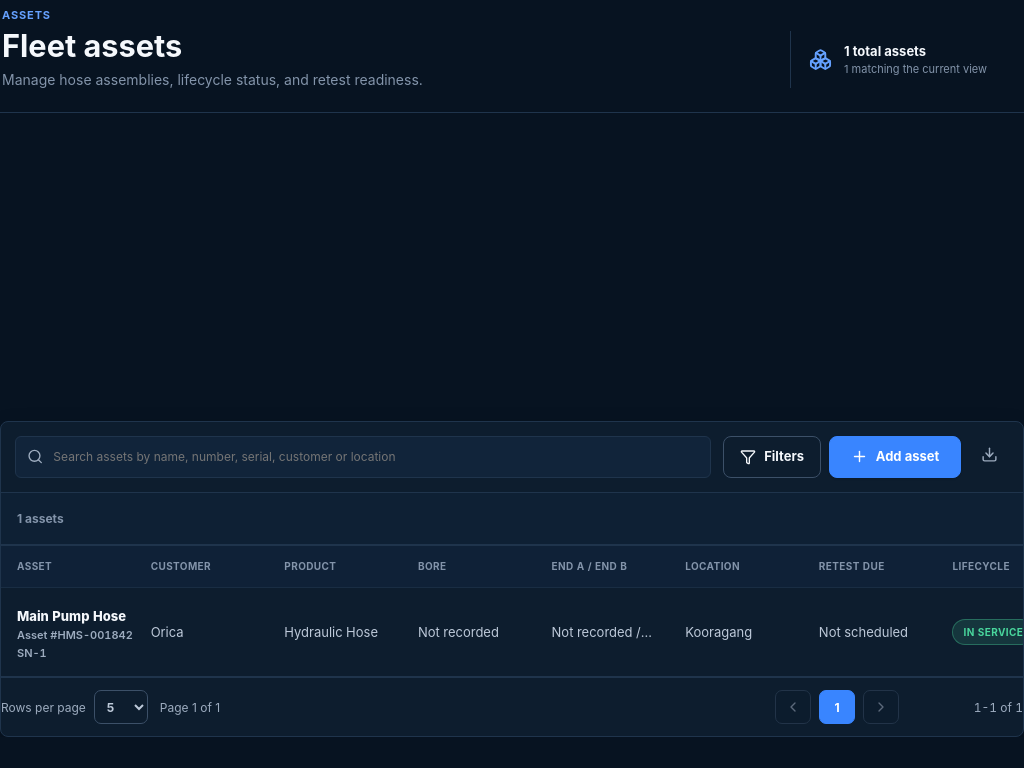
Test: Asset form › shows a server rejection, keeps the drawer open with every value, and explains it in plain words
The image size is (1024, 768).
expect the text "Main Pump Hose" is shown: met, box [17,608,126,624]
Click the button "Add asset" at (895, 456), box [829,436,961,478]
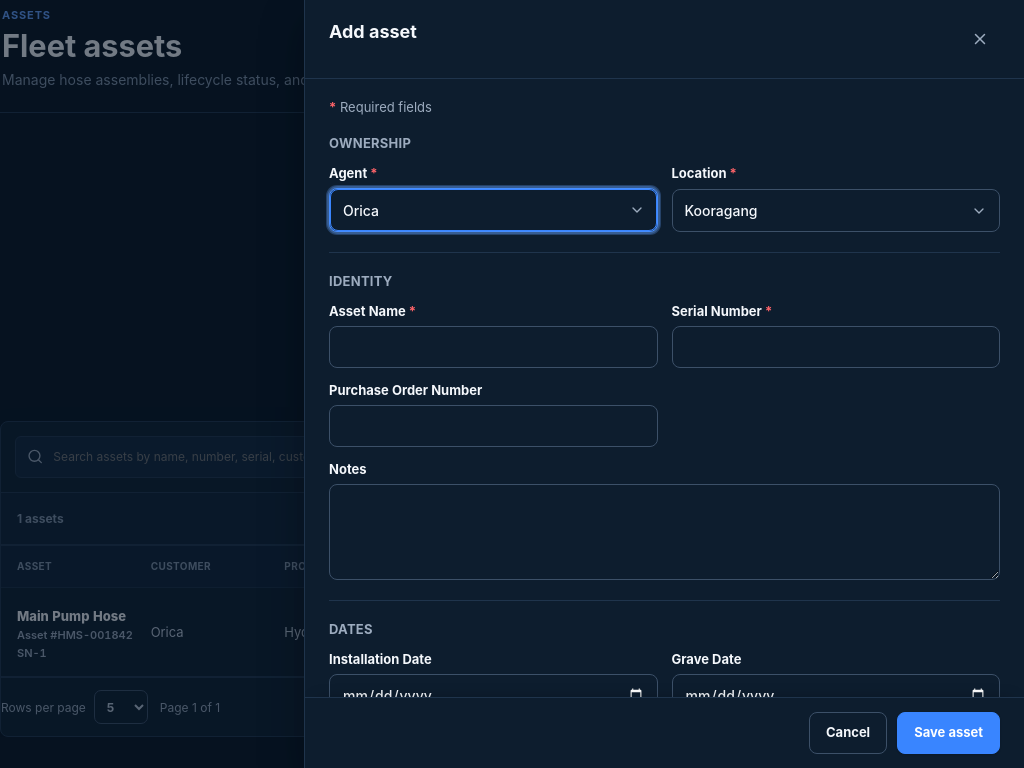
expect the heading "Add asset" is shown: met, box [329,20,417,43]
Type "Boom Hose" into the field labelled "Asset Name" at (493, 347), box [329,326,658,368]
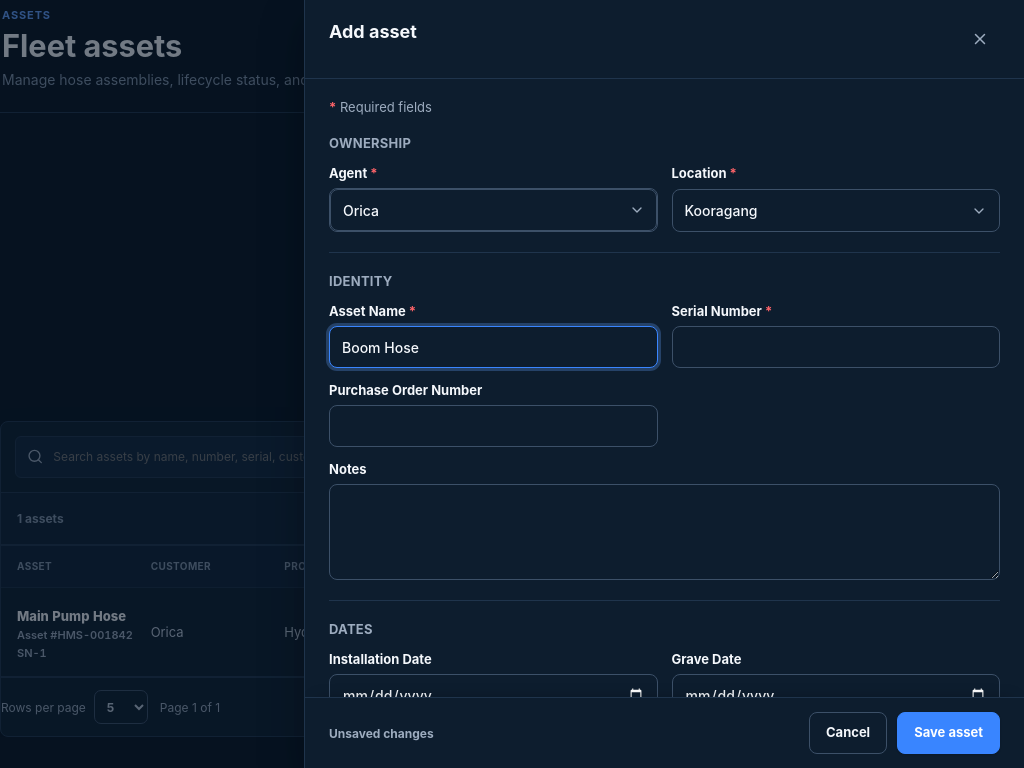
Type "SN-77" into the field labelled "Serial Number" at (836, 347), box [672,326,1000,368]
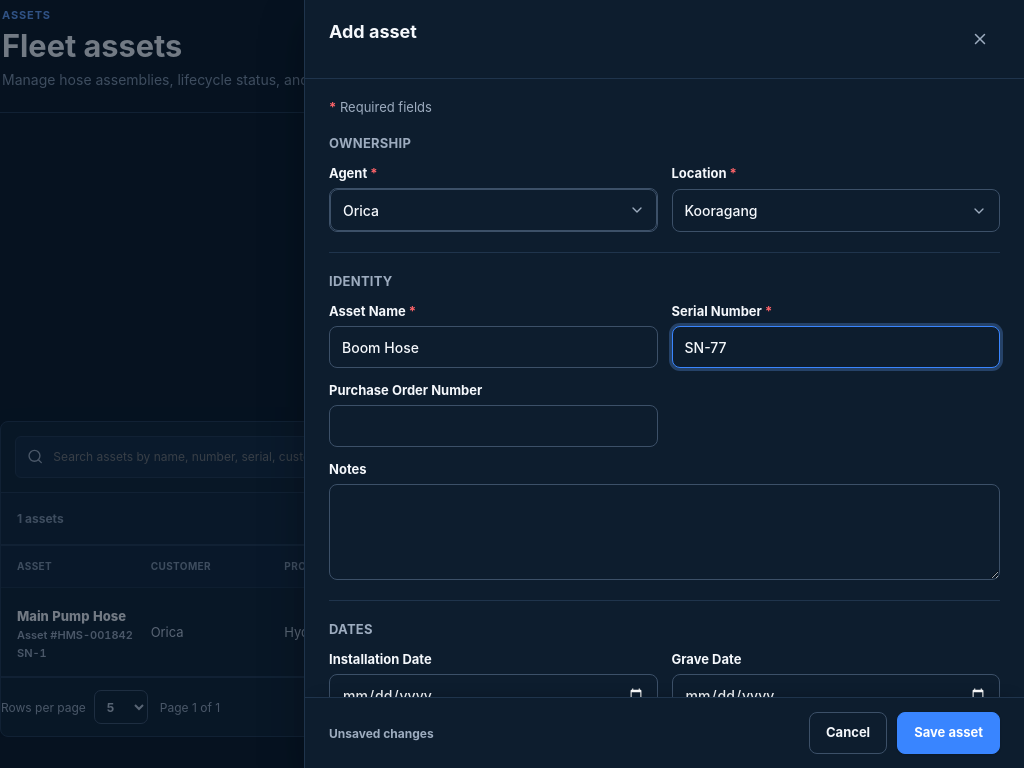
Click the button "Save asset" at (949, 733), box [897,712,1000,754]
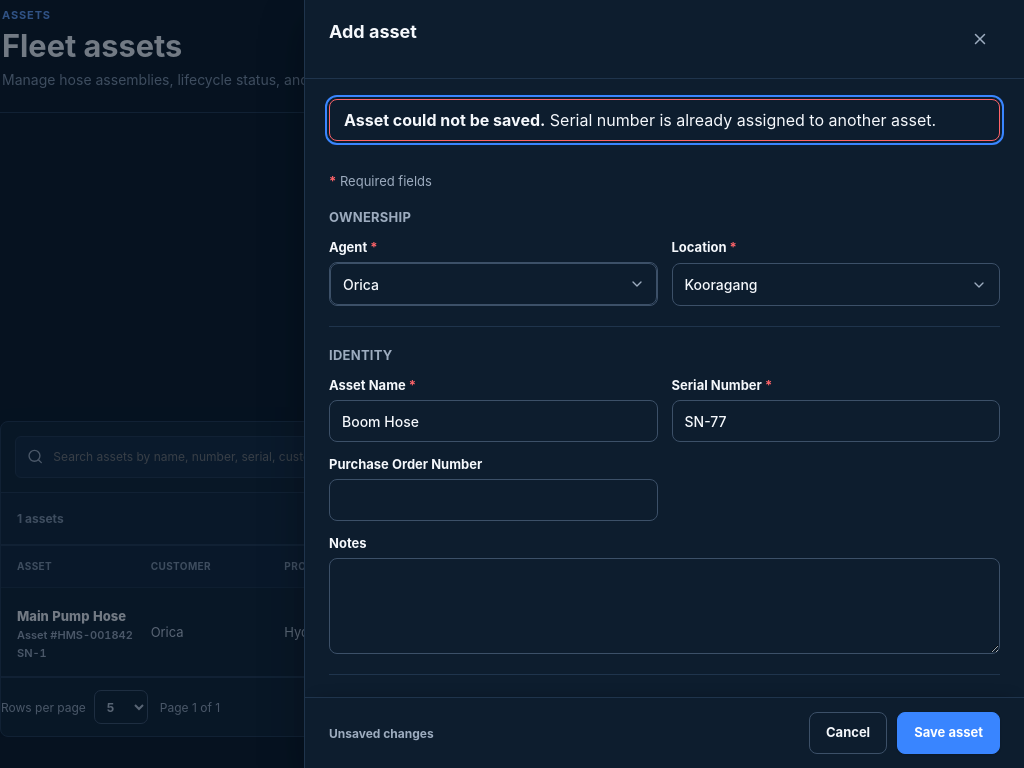
expect the heading "Add asset" is shown: met, box [329,20,417,43]
expect the message shows "Asset could not be saved": met, box [344,110,540,130]
expect the message shows "Serial number is already assigned to another asset.": met, box [550,110,936,130]
